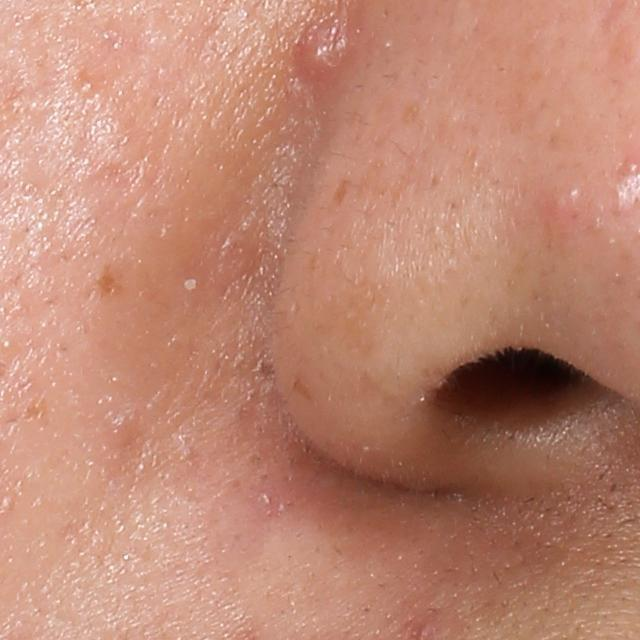comedo: (73, 72, 106, 100)
